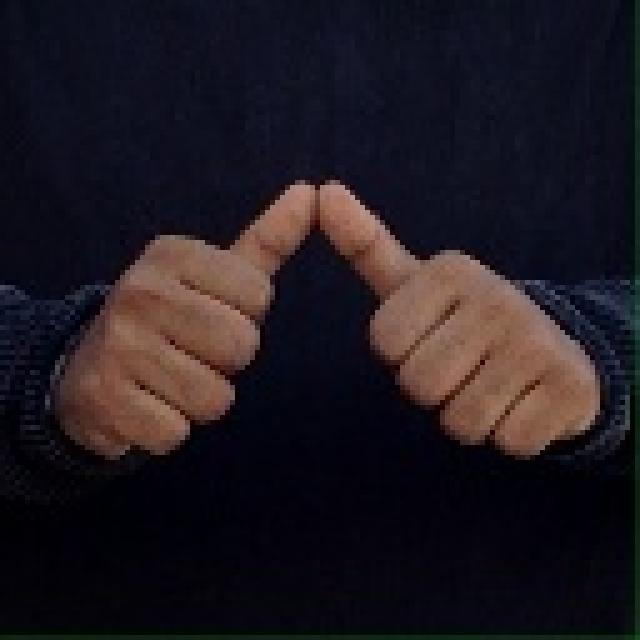A: (52, 176, 586, 494)
